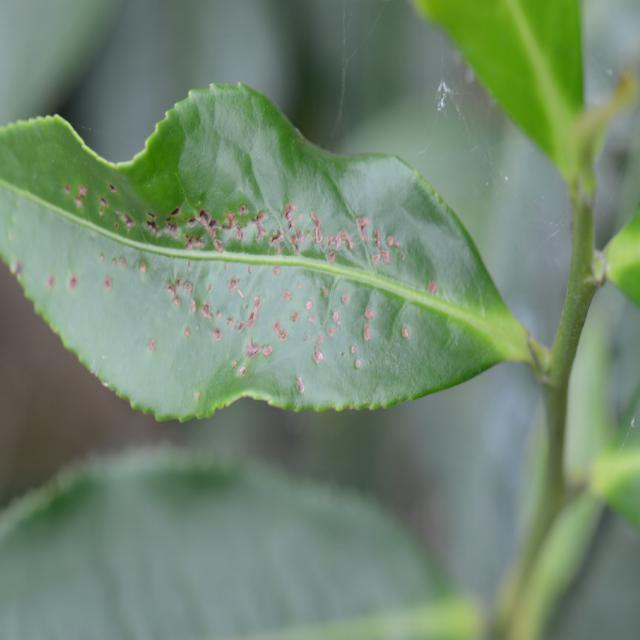Tea red scab: (45, 161, 442, 368)
